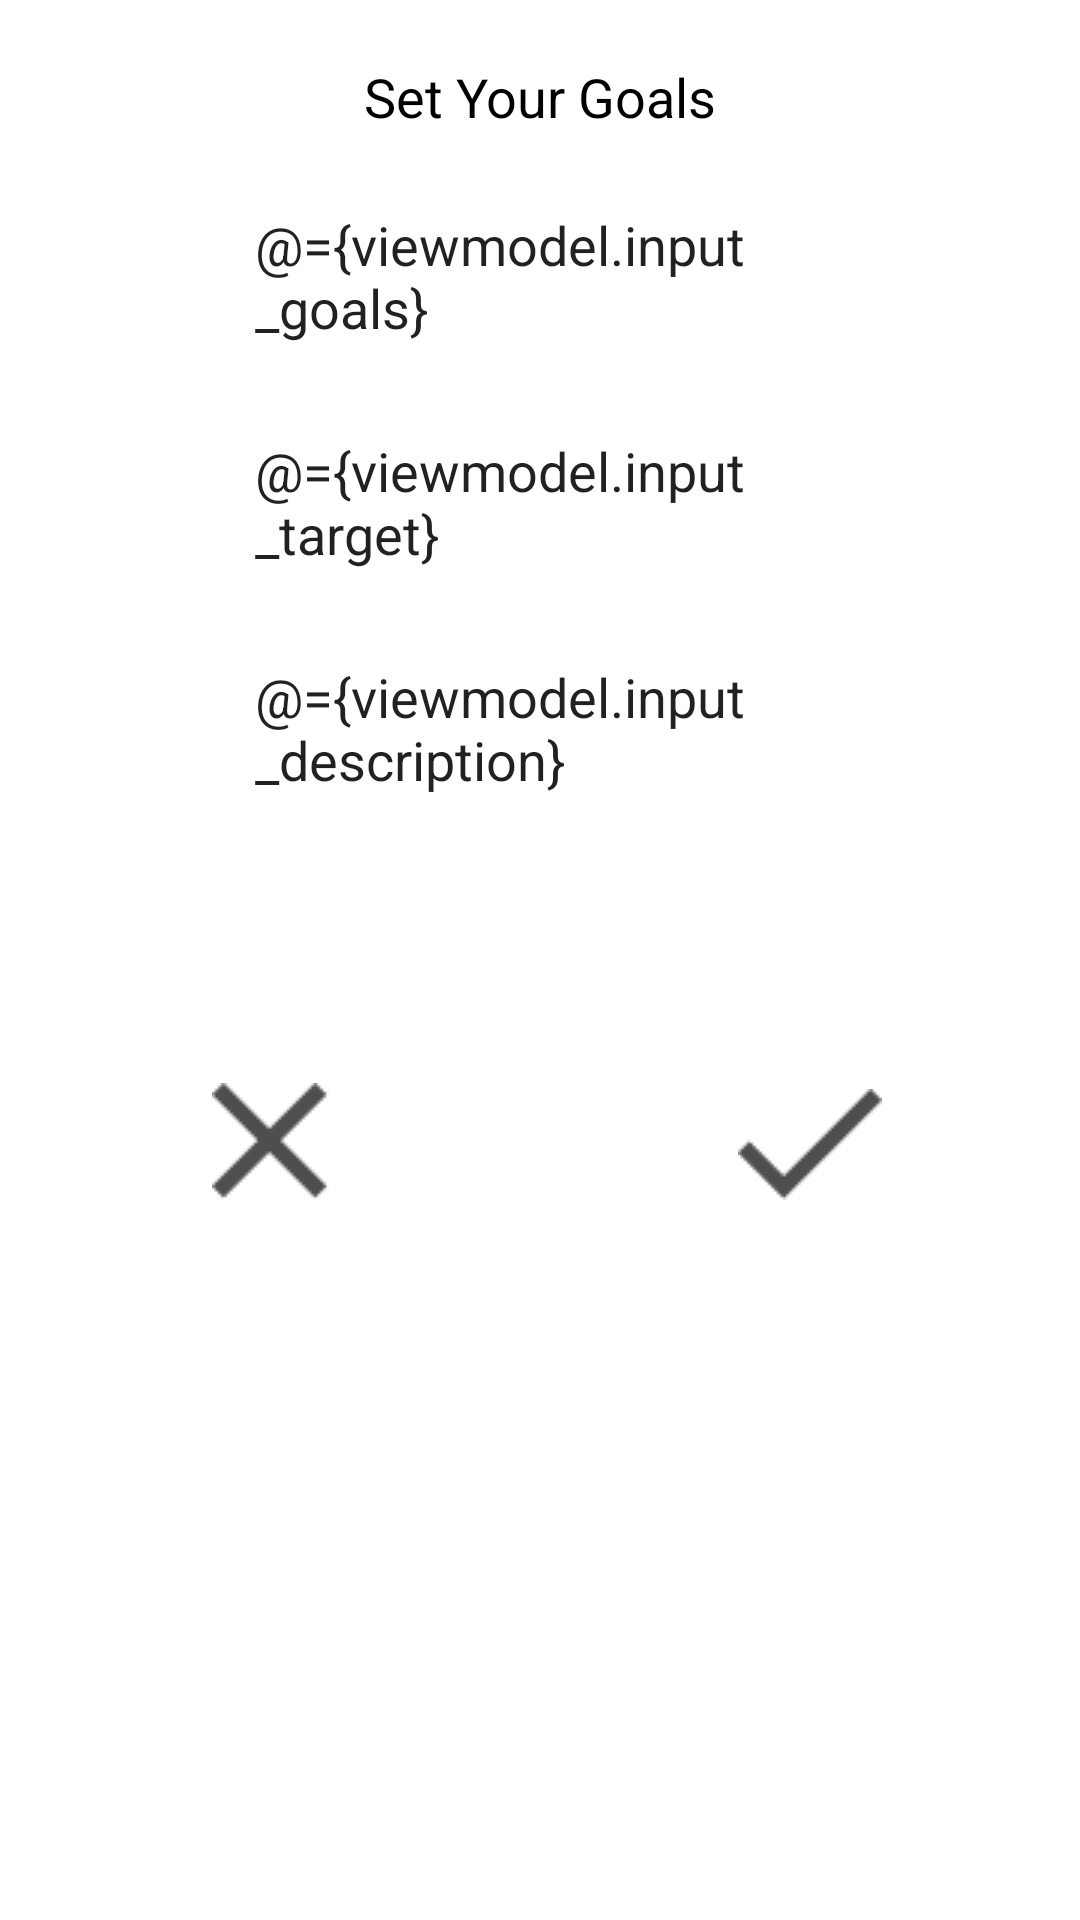

Locate icon controls on the screen. Image size 1080px×1920px, boxes as (x1, y1, x2, y2).
close: (212, 1083, 327, 1198)
done: (738, 1089, 882, 1200)
